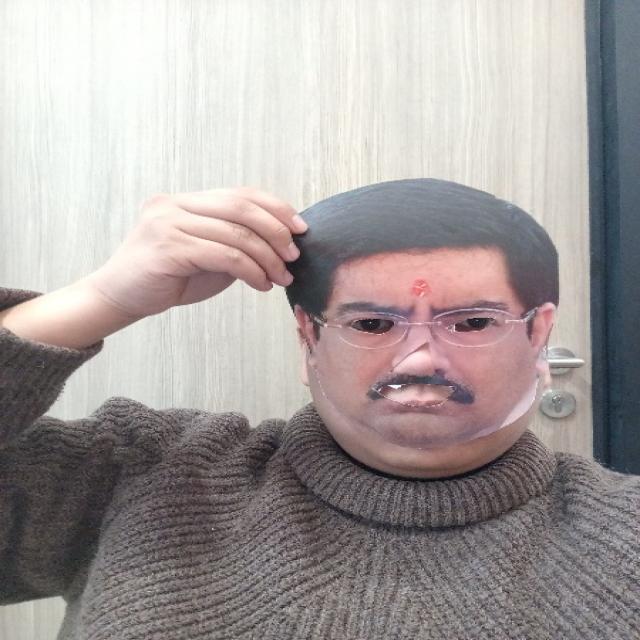mask: (273, 178, 563, 445)
